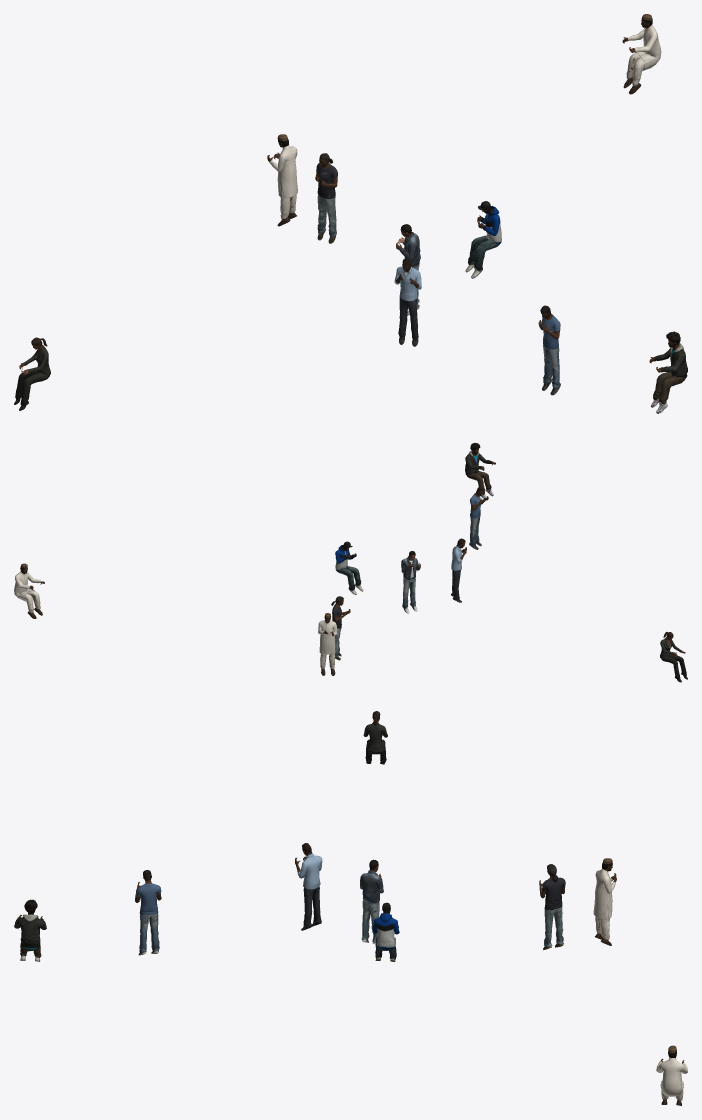
Rendered from fleet_people.glb.
The picture shows the model from 3 angles, top to bottom: view 1: azimuth 30°, elevation 25°; view 2: azimuth 150°, elevation 25°; view 3: azimuth 270°, elevation 25°; orthographic projection. The views are drawn at different scales.
Visible parts, largest first — view 1: fleet_people; view 2: fleet_people; view 3: fleet_people.
Part boxes in pixels (x1,y1,x2,y2): fleet_people: (14,14,687,413); fleet_people: (14,442,687,682); fleet_people: (14,711,687,1105).
Bounding box in the file's own units: 17.93 × 1.95 × 13.66.
Materials: 20 (20 with a texture image).
